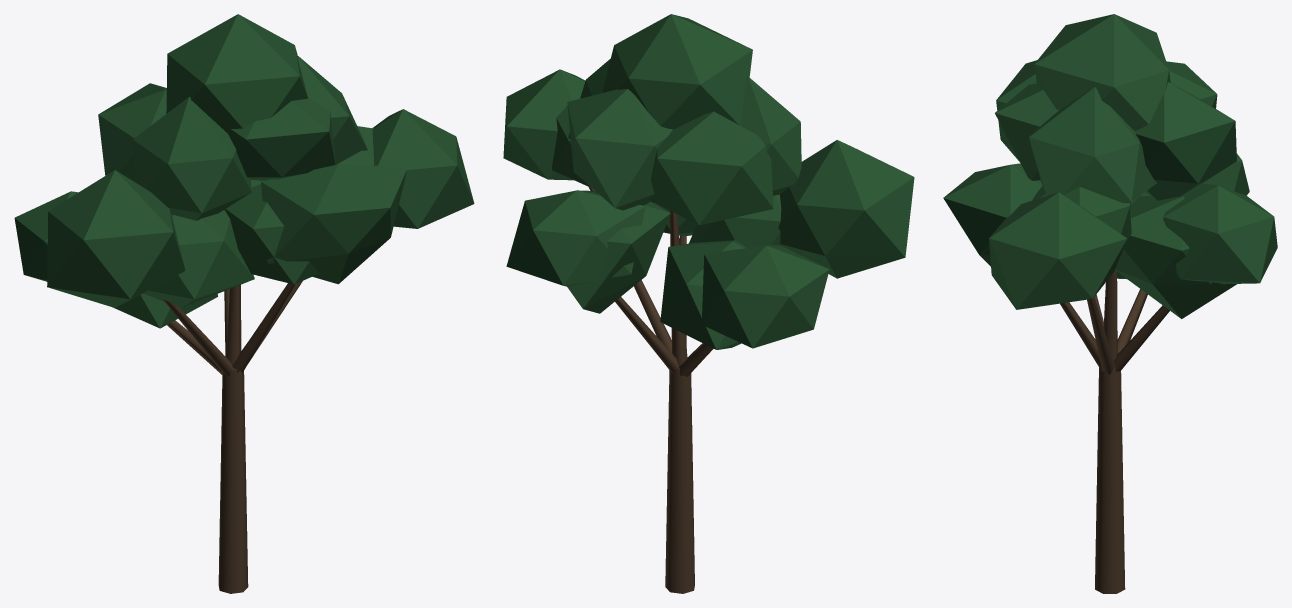
The model's file is tree-lime-1.glb.
The picture shows the model from 3 angles, left to right: view 1: azimuth 30°, elevation 25°; view 2: azimuth 150°, elevation 25°; view 3: azimuth 270°, elevation 25°; orthographic projection.
Visible parts, largest first — view 1: 01_paint0, 00_#4a3a2c; view 2: 01_paint0, 00_#4a3a2c; view 3: 01_paint0, 00_#4a3a2c.
Part boxes in pixels (box(x1,y1,x2,y2)): 01_paint0: box(14, 14, 474, 328); 00_#4a3a2c: box(163, 281, 302, 593); 01_paint0: box(503, 14, 914, 349); 00_#4a3a2c: box(588, 187, 713, 593); 01_paint0: box(943, 14, 1277, 318); 00_#4a3a2c: box(1060, 270, 1169, 593).
Size of the model in its own units: 10.92 by 14.76 by 7.75.
